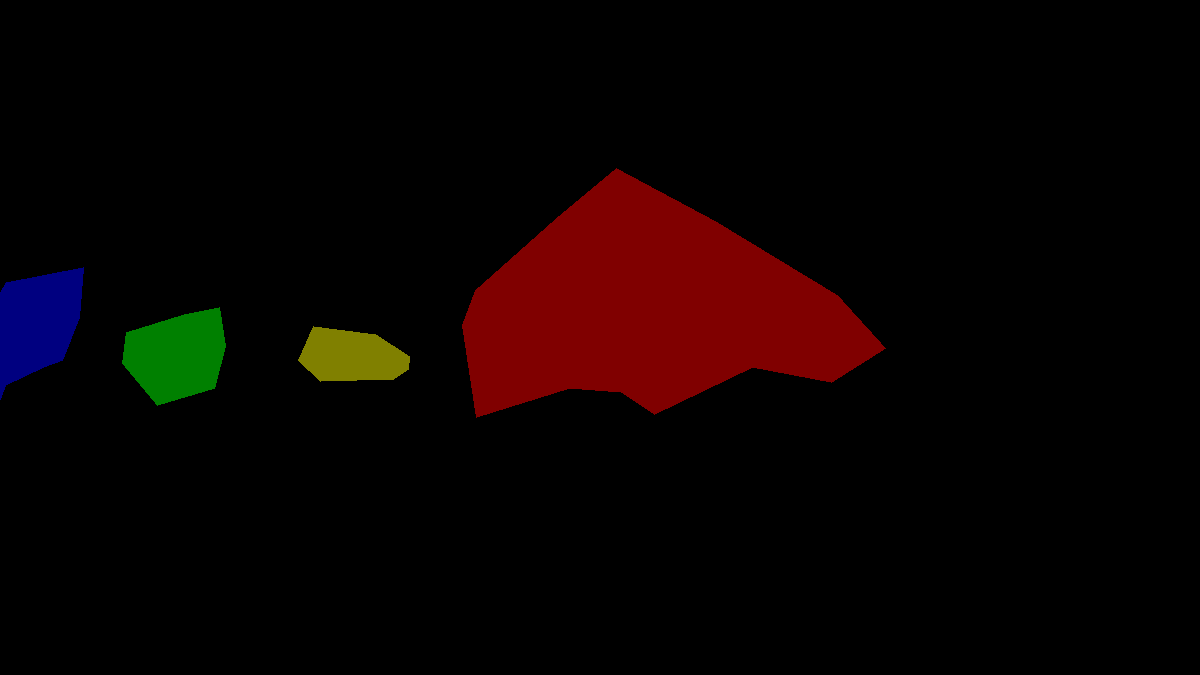fire: (462, 168, 885, 417), (0, 267, 83, 399), (122, 307, 225, 405), (298, 326, 409, 381)
